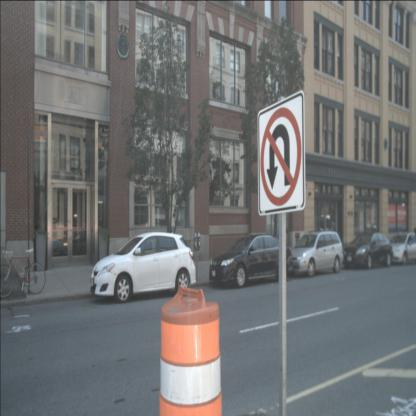movable_object-trafficcone: (152, 286, 232, 416)
vehicle-bicycle: (0, 248, 46, 300)
vehicle-car: (89, 231, 196, 304), (209, 233, 293, 288), (286, 230, 344, 278), (342, 230, 393, 269), (60, 227, 104, 261), (385, 231, 416, 266)
